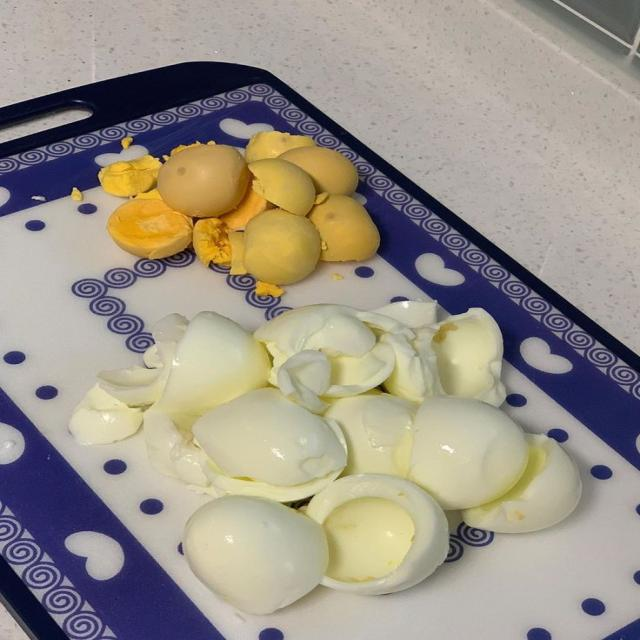egg boiled: (306, 474, 448, 594), (194, 389, 346, 501), (183, 496, 327, 614), (408, 397, 528, 510), (154, 312, 270, 415), (462, 434, 581, 533), (325, 395, 417, 477), (431, 309, 506, 406), (158, 145, 249, 217), (243, 209, 320, 285), (309, 195, 379, 261), (69, 385, 142, 445), (279, 147, 358, 195), (249, 159, 315, 215), (245, 131, 315, 162)
